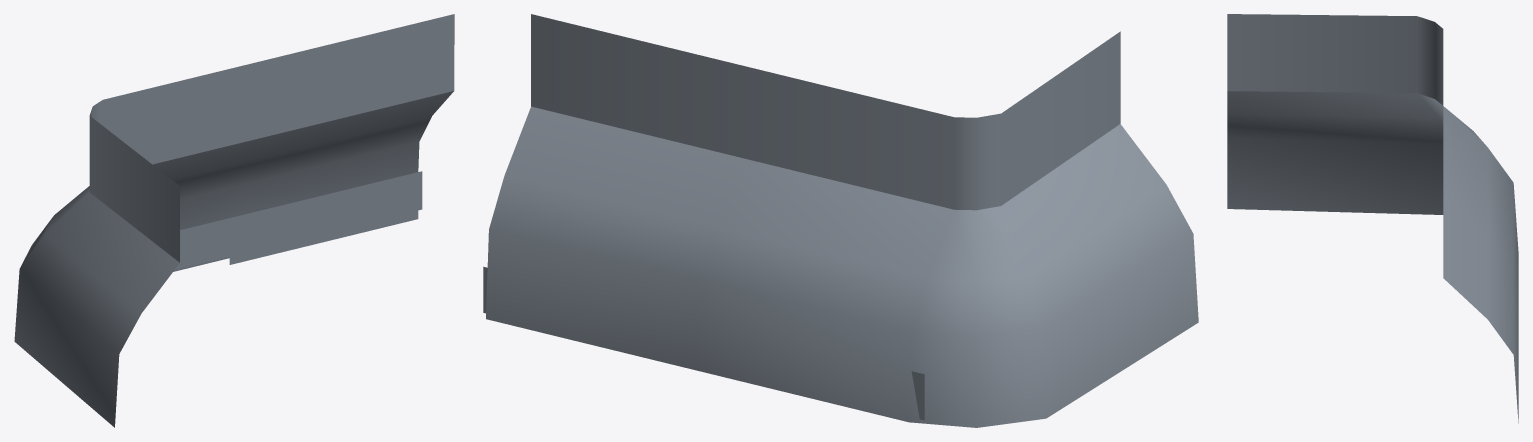
The model's file is gltf__Models__map__Village__startup__v_startup_mergedSkyline.glb.
The picture shows the model from 3 angles, left to right: view 1: azimuth 30°, elevation 25°; view 2: azimuth 150°, elevation 25°; view 3: azimuth 270°, elevation 25°; orthographic projection. The views are drawn at different scales.
Parts seen in each view (by area): view 1: v_startup_mergedSkyline; view 2: v_startup_mergedSkyline; view 3: v_startup_mergedSkyline.
Part boxes in pixels (x1,y1,x2,y2): v_startup_mergedSkyline: (14,14,454,427); v_startup_mergedSkyline: (483,14,1198,427); v_startup_mergedSkyline: (1227,14,1518,423).
Size of the model in its own units: 15.62 by 7.48 by 8.71.
1 material, 1 textured.
